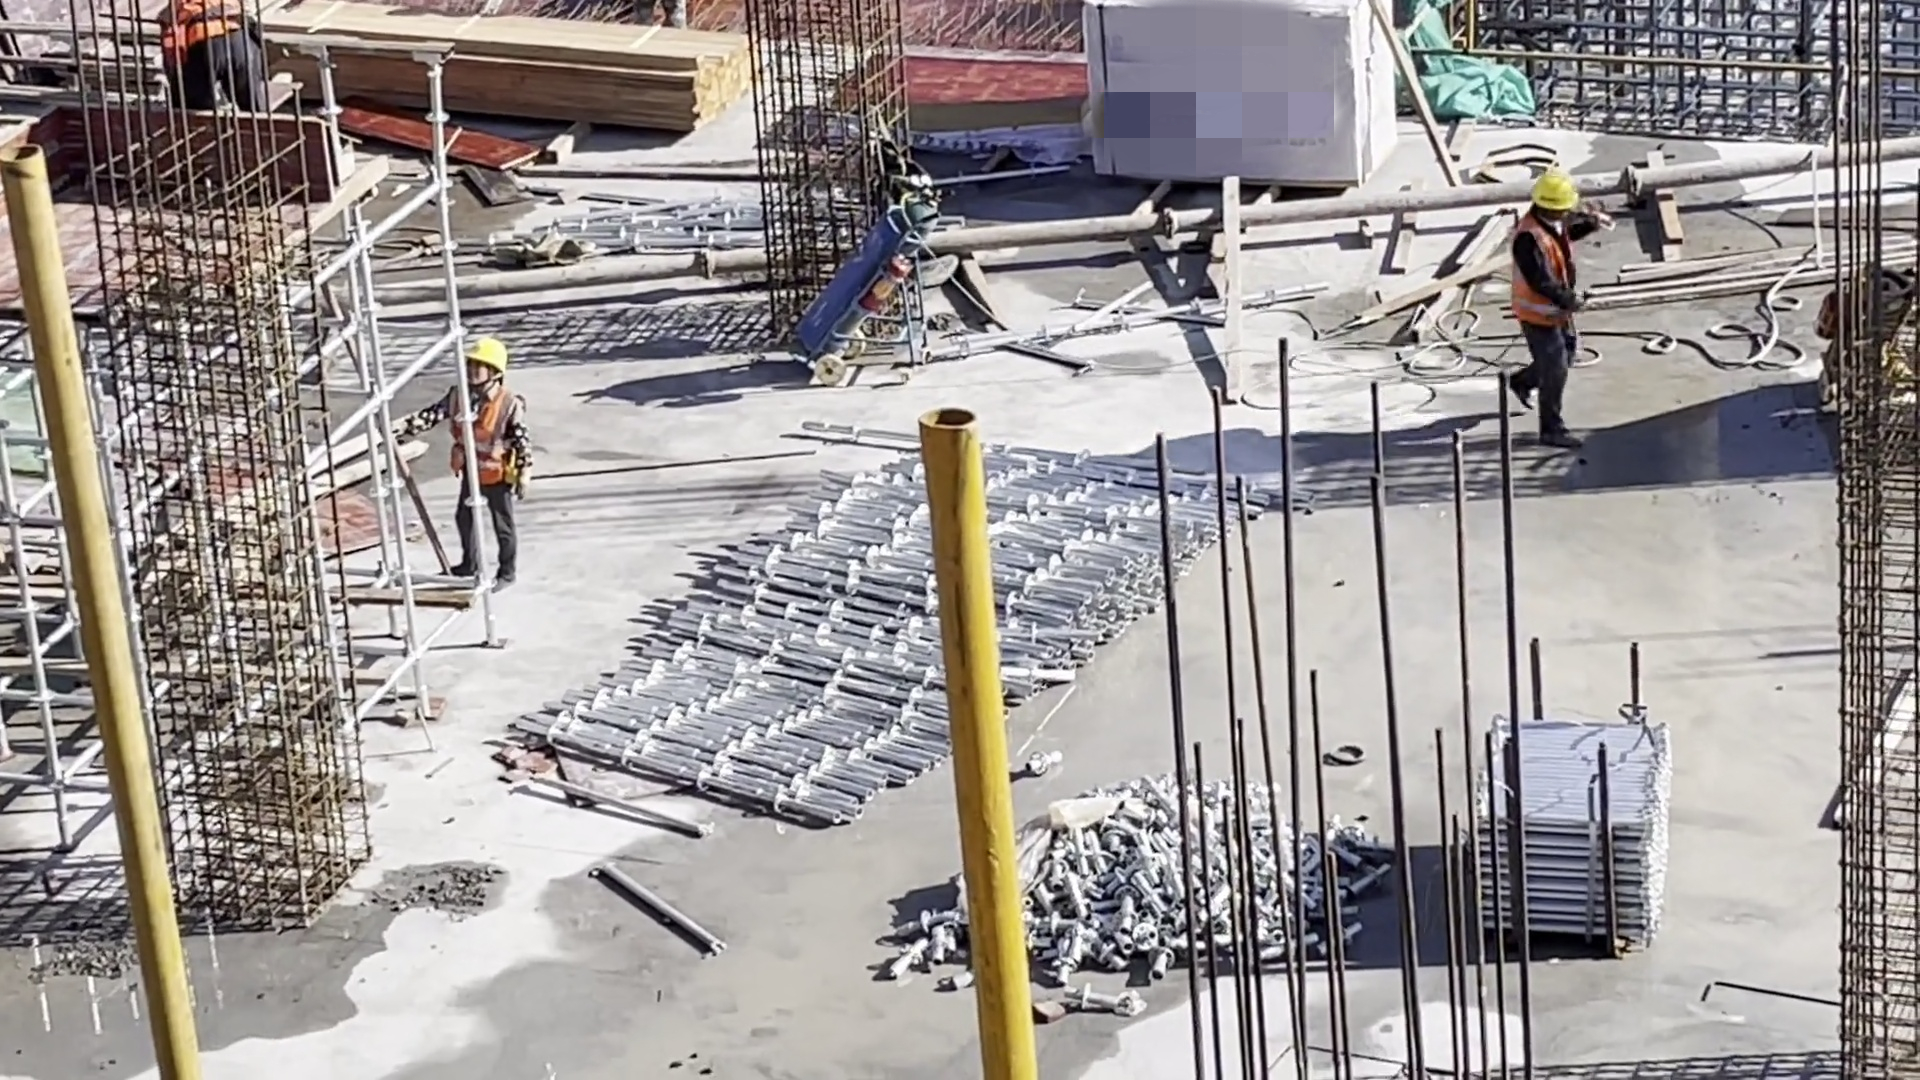helmet: (1533, 174, 1578, 212), (465, 342, 504, 370)
person: (423, 338, 537, 580), (1514, 171, 1592, 449), (155, 2, 271, 112)
scaffold: (509, 422, 1315, 824), (1470, 715, 1676, 949)
vest: (451, 386, 520, 492), (1520, 219, 1577, 333), (159, 7, 246, 44)
wood: (276, 3, 747, 131)
